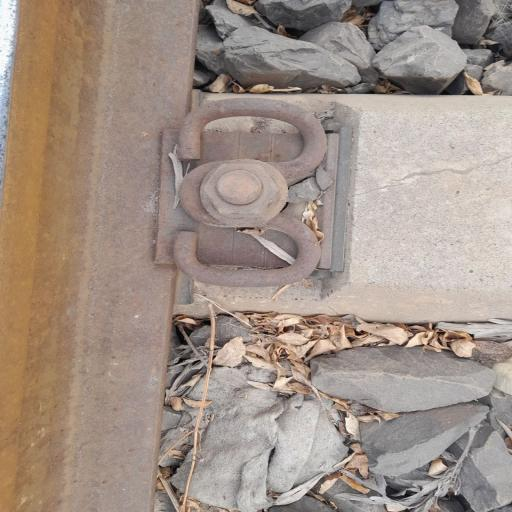bolt: (183, 155, 295, 224)
clip: (148, 87, 348, 299)
